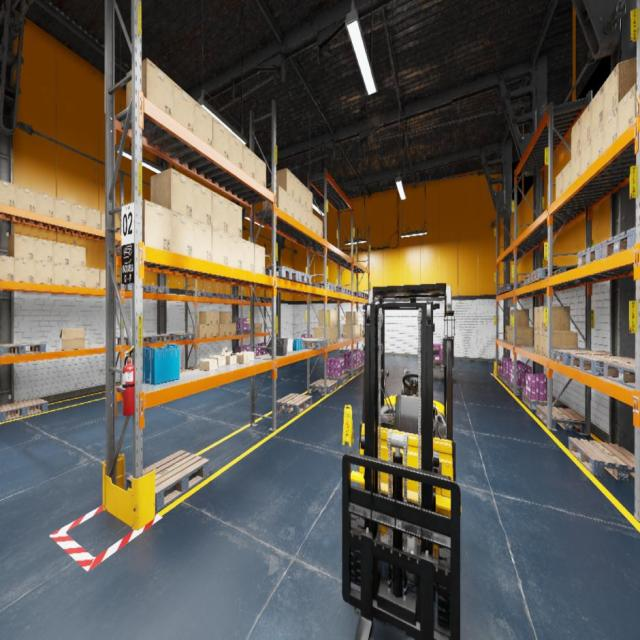box: (126, 58, 172, 118), (603, 58, 637, 121), (152, 168, 194, 218), (142, 200, 171, 251), (173, 80, 195, 134), (617, 84, 636, 138), (172, 211, 194, 257), (193, 180, 212, 227), (195, 100, 213, 148), (544, 331, 577, 356), (538, 306, 570, 331), (193, 220, 212, 261), (603, 105, 618, 152), (8, 234, 35, 260), (213, 117, 229, 159), (271, 168, 293, 198), (262, 186, 286, 213), (212, 191, 227, 232), (60, 328, 86, 350), (212, 227, 227, 265), (592, 84, 603, 135), (228, 200, 242, 238), (16, 185, 35, 212), (230, 131, 243, 170), (591, 122, 603, 164), (14, 258, 34, 283), (35, 191, 54, 217), (228, 234, 242, 268), (581, 101, 591, 148), (0, 180, 16, 207), (580, 136, 591, 175), (243, 144, 255, 179), (53, 241, 70, 265), (35, 238, 52, 262), (54, 197, 71, 221), (242, 239, 254, 272), (53, 263, 70, 286), (35, 261, 52, 284), (572, 116, 581, 158), (0, 255, 14, 281), (512, 327, 532, 345), (71, 202, 86, 225), (509, 310, 529, 327), (256, 154, 266, 187), (70, 245, 85, 267), (572, 148, 581, 184), (254, 244, 264, 274), (70, 266, 85, 286), (87, 207, 100, 229), (314, 327, 330, 344), (318, 310, 334, 327), (563, 159, 571, 192), (86, 268, 99, 288), (221, 347, 236, 364), (510, 327, 524, 343), (200, 358, 217, 371), (556, 169, 563, 199), (286, 192, 294, 218), (208, 355, 226, 366), (343, 324, 356, 338), (193, 324, 206, 338), (294, 176, 300, 203), (301, 182, 307, 208), (200, 311, 212, 324), (235, 353, 250, 363), (307, 188, 313, 212), (294, 198, 300, 222), (346, 311, 357, 324), (240, 351, 254, 361), (301, 205, 307, 228), (307, 209, 313, 231), (219, 312, 231, 323), (312, 213, 318, 234), (539, 330, 544, 355), (318, 217, 323, 238), (534, 329, 538, 354), (534, 307, 538, 330), (350, 324, 357, 337), (100, 270, 105, 288), (218, 324, 225, 336), (358, 323, 364, 336), (225, 323, 231, 336), (206, 324, 212, 337), (230, 323, 236, 335), (212, 324, 218, 336), (101, 212, 105, 230), (504, 326, 509, 340), (255, 324, 262, 334), (330, 327, 334, 344), (212, 312, 218, 323), (334, 310, 338, 326), (334, 327, 338, 342), (508, 326, 510, 343), (358, 324, 360, 336)
forklift: (351, 282, 461, 630)
pallets: (127, 450, 209, 512), (568, 437, 634, 483), (570, 354, 634, 377), (536, 405, 585, 432), (551, 348, 617, 366), (0, 398, 48, 422), (602, 227, 635, 258), (276, 392, 312, 414), (532, 265, 578, 282), (604, 362, 634, 388), (522, 392, 564, 410), (577, 242, 602, 267), (0, 343, 46, 356), (266, 266, 298, 281), (311, 378, 338, 394), (118, 336, 154, 345), (524, 273, 548, 286), (117, 283, 149, 292), (301, 338, 327, 349), (326, 373, 348, 385), (508, 381, 526, 394), (310, 283, 336, 292), (146, 334, 175, 342), (294, 272, 312, 284), (144, 286, 169, 294), (168, 333, 196, 340), (188, 290, 212, 298), (502, 283, 519, 293), (344, 366, 360, 376), (433, 361, 453, 368), (202, 293, 224, 299), (350, 290, 364, 298), (246, 296, 263, 301), (497, 287, 509, 294), (225, 294, 238, 300), (503, 375, 509, 386), (356, 364, 364, 372), (498, 371, 504, 381), (343, 288, 350, 296), (258, 298, 272, 302), (236, 330, 250, 334), (359, 293, 368, 299), (337, 286, 342, 294), (180, 369, 193, 372), (520, 279, 524, 287), (190, 366, 199, 369)
